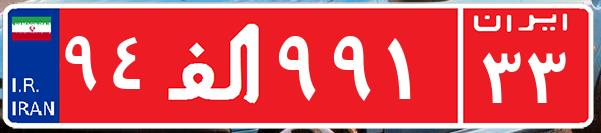1: (385, 28, 445, 110)
3: (475, 38, 525, 113), (525, 38, 570, 115)
4: (110, 28, 158, 105)
9: (273, 28, 330, 110), (330, 28, 385, 110), (57, 26, 110, 107)
الف: (158, 15, 273, 115)
